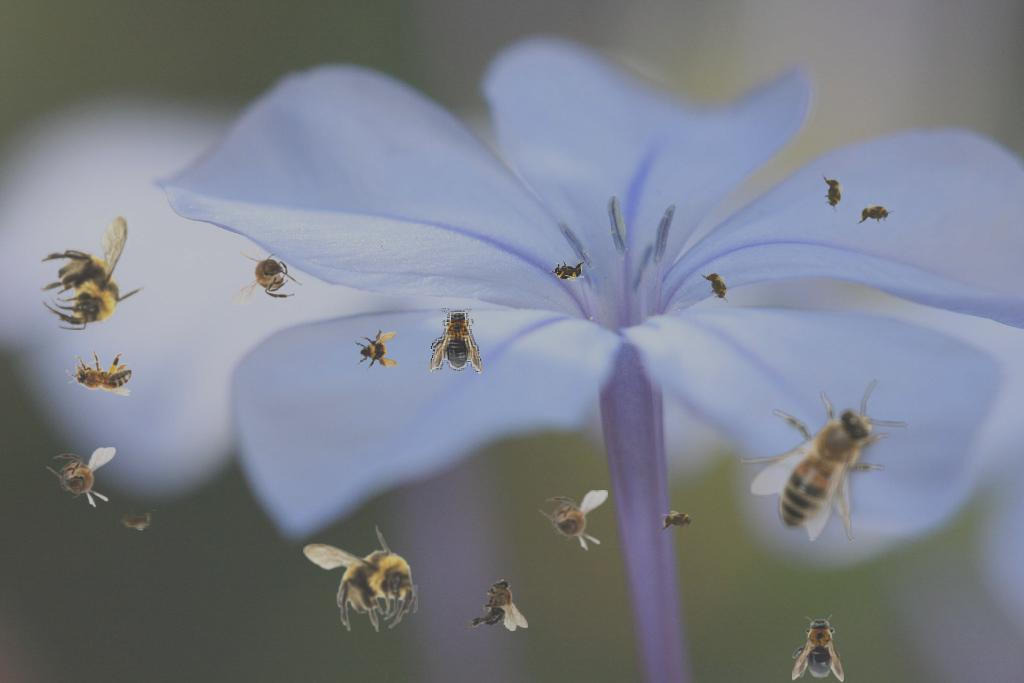Bee: (741, 379, 908, 541), (39, 215, 146, 330), (303, 525, 418, 632), (538, 490, 608, 551), (232, 244, 302, 305), (46, 447, 116, 508), (430, 306, 482, 374), (792, 614, 844, 682), (466, 578, 528, 631), (66, 351, 132, 396), (352, 324, 402, 374), (698, 263, 736, 309), (548, 260, 588, 282), (658, 510, 698, 532), (116, 509, 156, 531), (822, 173, 844, 213), (855, 203, 895, 225)
